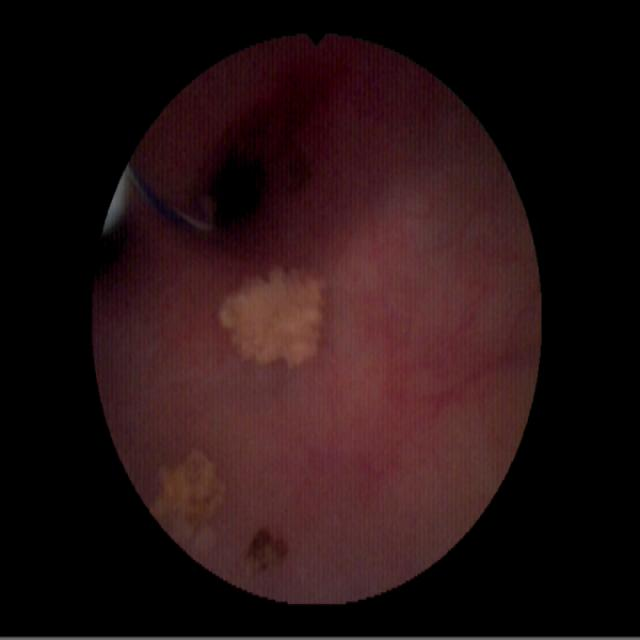stone: (225, 268, 325, 371), (151, 443, 222, 531)
tissue: (100, 42, 531, 593)
